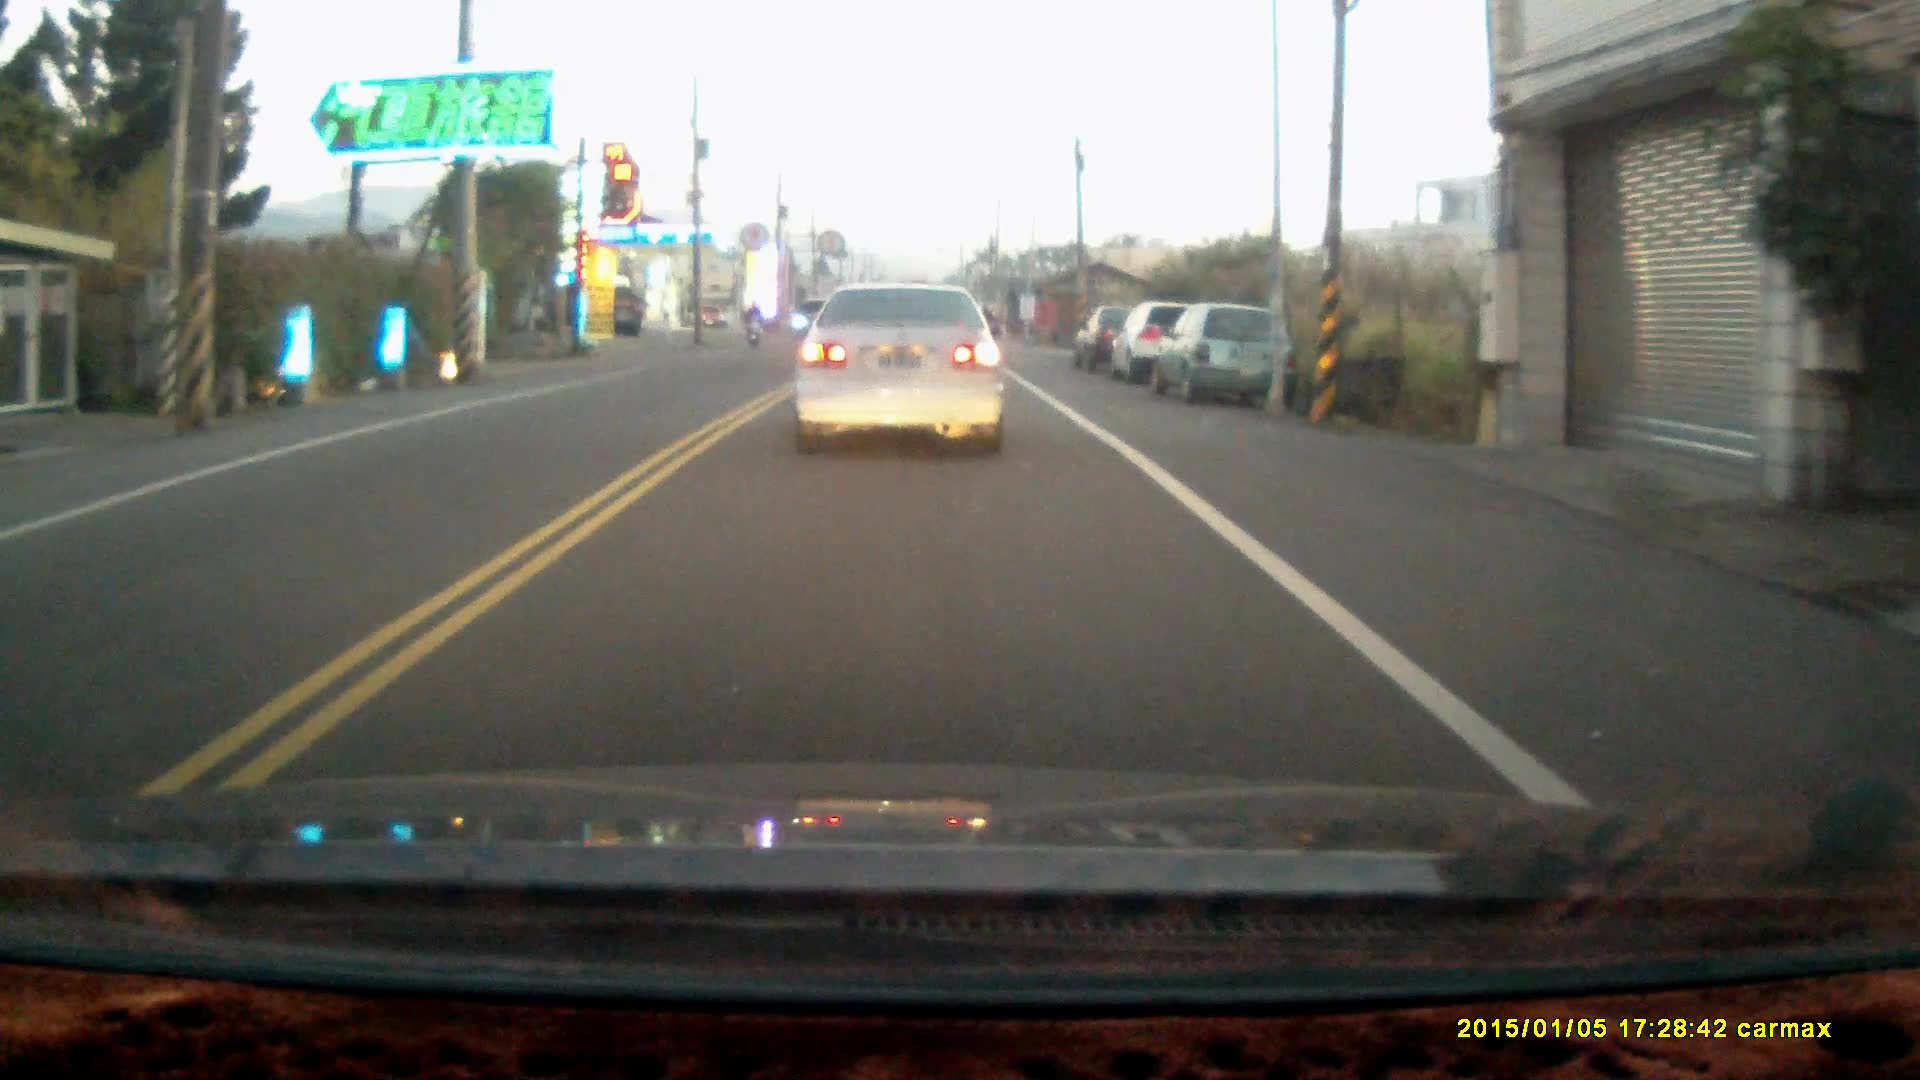rider: (742, 300, 763, 347)
vehicle: (788, 278, 1006, 462), (1161, 306, 1296, 404), (1117, 301, 1235, 386), (1076, 307, 1174, 375)
